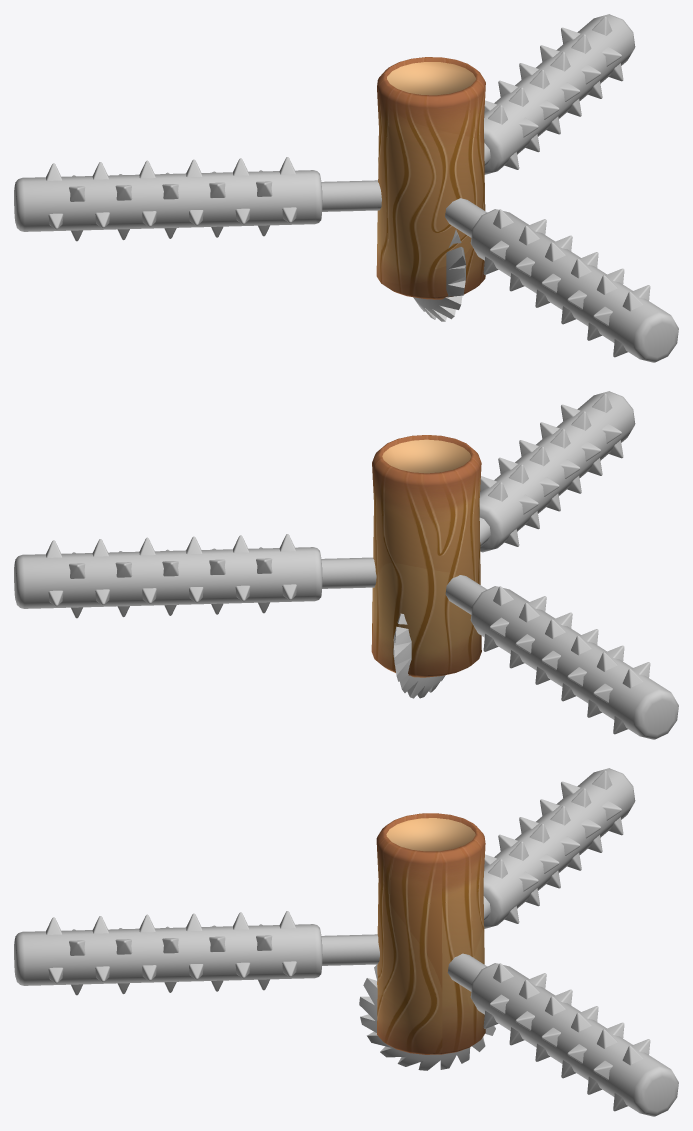
File: Obstacle4.fbx
3 views of the same model, one above another, from view 1: azimuth 30°, elevation 25°; view 2: azimuth 150°, elevation 25°; view 3: azimuth 270°, elevation 25° (orthographic).
Visible parts, largest first — view 1: Obstacle-1.005, Spiral.004, Cylinder.001; view 2: Obstacle-1.005, Spiral.004, Cylinder.001; view 3: Obstacle-1.005, Spiral.004, Cylinder.001.
Part boxes in pixels (x1=…): Obstacle-1.005: x1=14, y1=14, x2=678, y2=362; Spiral.004: x1=376, y1=57, x2=485, y2=299; Cylinder.001: x1=413, y1=230, x2=466, y2=321; Obstacle-1.005: x1=14, y1=391, x2=678, y2=739; Spiral.004: x1=371, y1=435, x2=481, y2=677; Cylinder.001: x1=393, y1=613, x2=445, y2=698; Obstacle-1.005: x1=14, y1=768, x2=678, y2=1116; Spiral.004: x1=376, y1=813, x2=485, y2=1054; Cylinder.001: x1=359, y1=965, x2=495, y2=1070.
Size of the model in its own units: 239 by 85.35 by 215.
